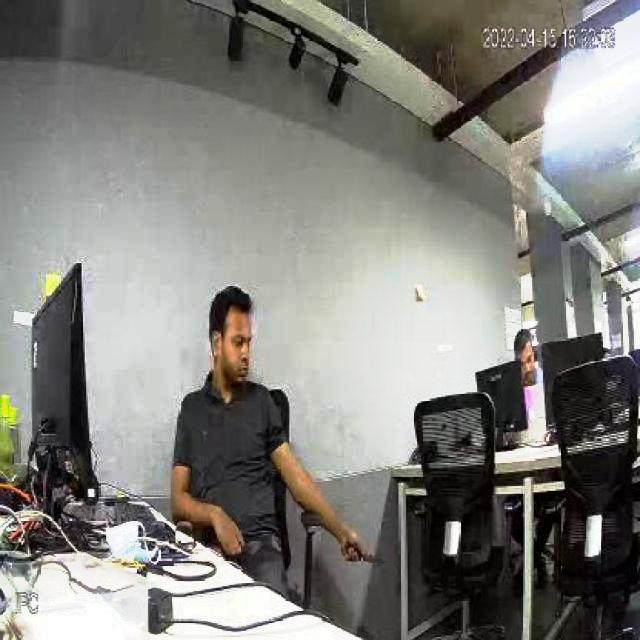Knife: (346, 523, 398, 579)
